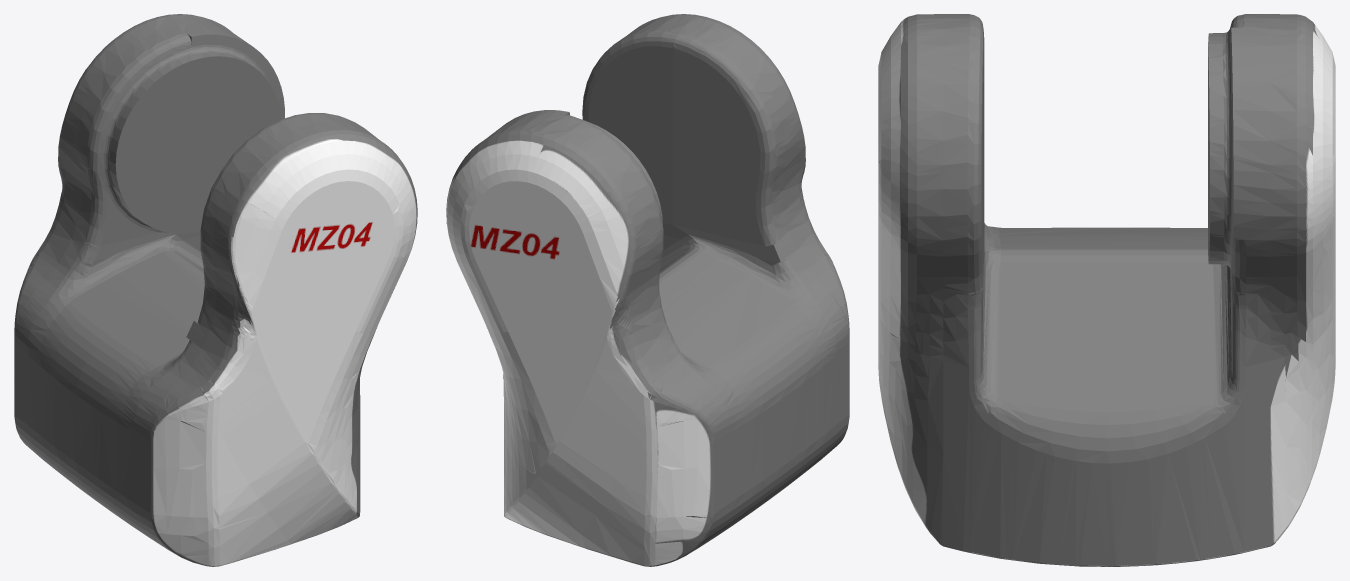
3 views of the same model, side by side, from view 1: azimuth 30°, elevation 25°; view 2: azimuth 150°, elevation 25°; view 3: azimuth 270°, elevation 25° (orthographic). The views are drawn at different scales.
Visible parts, largest first — view 1: link1; view 2: link1; view 3: link1.
Boxes of the visible parts, x1=… form: link1: x1=14, y1=14, x2=417, y2=566; link1: x1=446, y1=14, x2=849, y2=566; link1: x1=878, y1=14, x2=1335, y2=566.
Bounding box in the file's own units: 0.1512 × 0.1901 × 0.225.
1 material, 1 textured.
